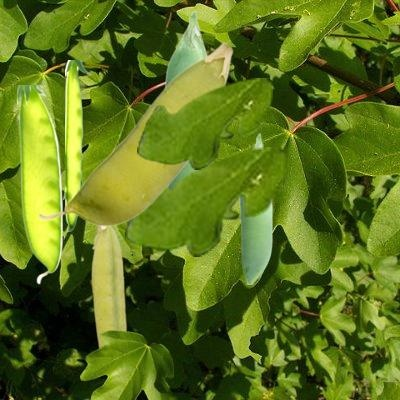pea: (38, 42, 232, 225), (17, 85, 61, 283), (164, 10, 207, 186), (239, 133, 271, 283), (91, 226, 127, 347), (65, 60, 90, 230)
